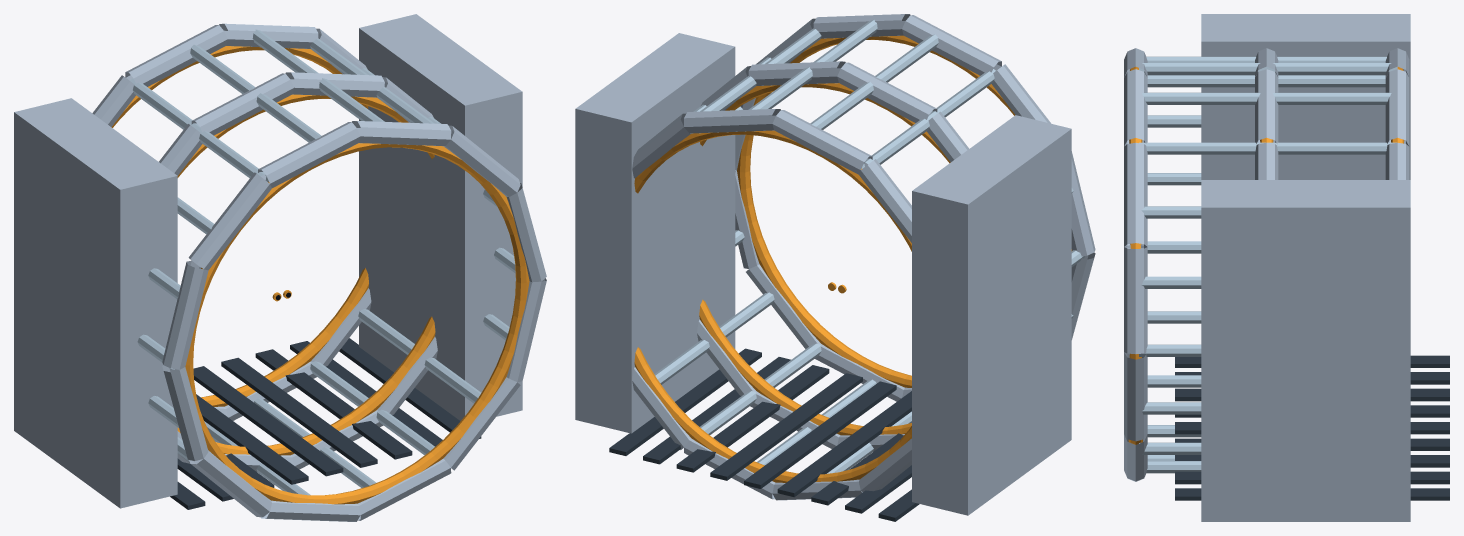
Rendered from 03_L89_StormShelterPressureHull.fbx.
The picture shows the model from 3 angles, left to right: view 1: azimuth 30°, elevation 25°; view 2: azimuth 150°, elevation 25°; view 3: azimuth 270°, elevation 25°; orthographic projection. The views are drawn at different scales.
Parts seen in each view (by area): view 1: L87_StormShelterPressureHull_Part_0001, L87_StormShelterPressureHull_Part_0003, L87_StormShelterPressureHull_Part_0004, L87_StormShelterPressureHull_Part_0002, L87_StormShelterPressureHull_Part_0000; view 2: L87_StormShelterPressureHull_Part_0001, L87_StormShelterPressureHull_Part_0000, L87_StormShelterPressureHull_Part_0004, L87_StormShelterPressureHull_Part_0002, L87_StormShelterPressureHull_Part_0003; view 3: L87_StormShelterPressureHull_Part_0001, L87_StormShelterPressureHull_Part_0003, L87_StormShelterPressureHull_Part_0004, L87_StormShelterPressureHull_Part_0000, L87_StormShelterPressureHull_Part_0002.
Part boxes in pixels (x1,y1,x2,y2): L87_StormShelterPressureHull_Part_0001: (14, 14, 546, 521); L87_StormShelterPressureHull_Part_0003: (130, 29, 515, 495); L87_StormShelterPressureHull_Part_0004: (170, 338, 481, 509); L87_StormShelterPressureHull_Part_0002: (111, 46, 529, 504); L87_StormShelterPressureHull_Part_0000: (92, 23, 433, 420); L87_StormShelterPressureHull_Part_0001: (575, 14, 1095, 515); L87_StormShelterPressureHull_Part_0000: (632, 61, 969, 500); L87_StormShelterPressureHull_Part_0004: (609, 348, 919, 521); L87_StormShelterPressureHull_Part_0002: (634, 35, 1071, 482); L87_StormShelterPressureHull_Part_0003: (654, 19, 1084, 473); L87_StormShelterPressureHull_Part_0001: (1124, 14, 1410, 521); L87_StormShelterPressureHull_Part_0003: (1139, 56, 1397, 473); L87_StormShelterPressureHull_Part_0004: (1175, 355, 1449, 500); L87_StormShelterPressureHull_Part_0000: (1255, 48, 1409, 179); L87_StormShelterPressureHull_Part_0002: (1128, 66, 1404, 444).
Size of the model in its own units: 700 by 665 by 498.
